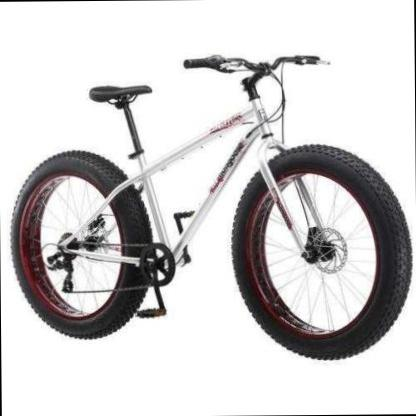Bicycle: (0, 13, 409, 352)
